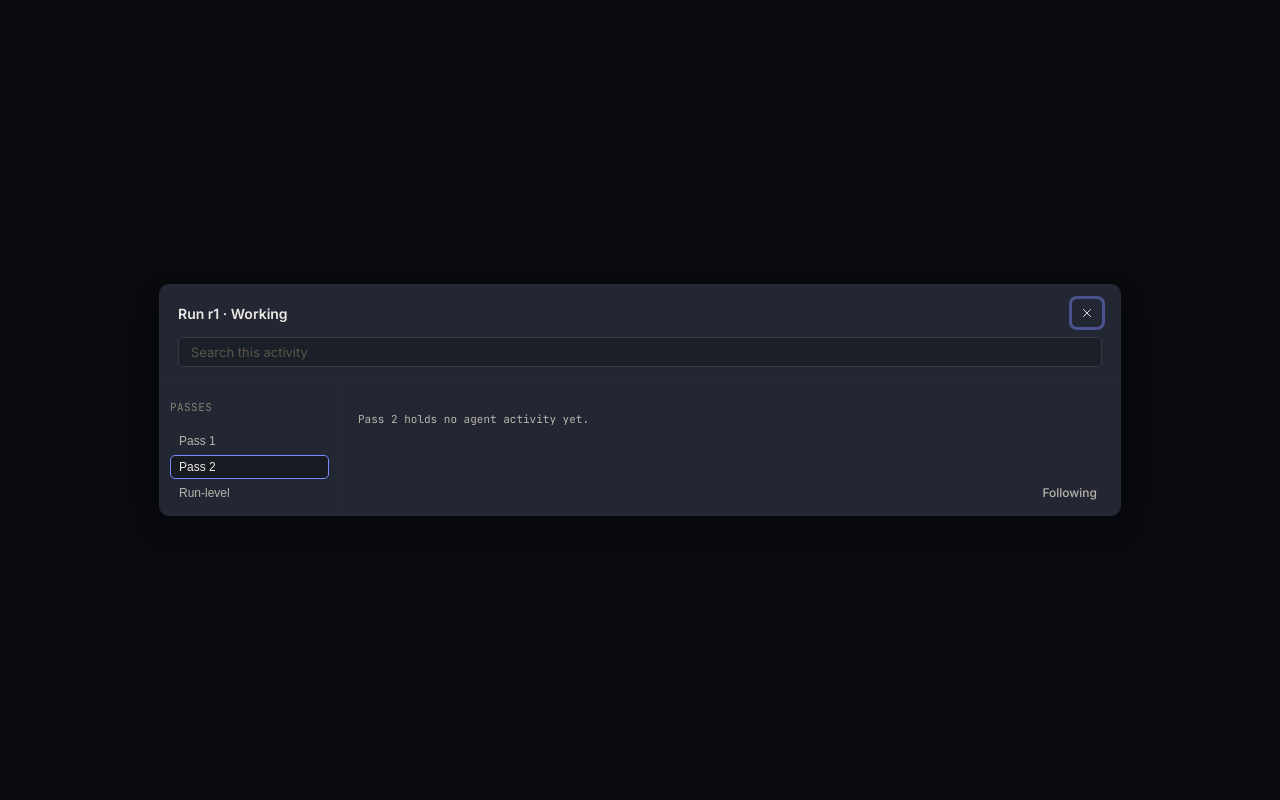
Scenario: the graduation log window: search › GLW-FR-KBZE: a single match reads as one match
The width and height of the screenshot is (1280, 800).
In the search field with test id "glw-search": (640, 352) [178,337,1102,367], type "only"
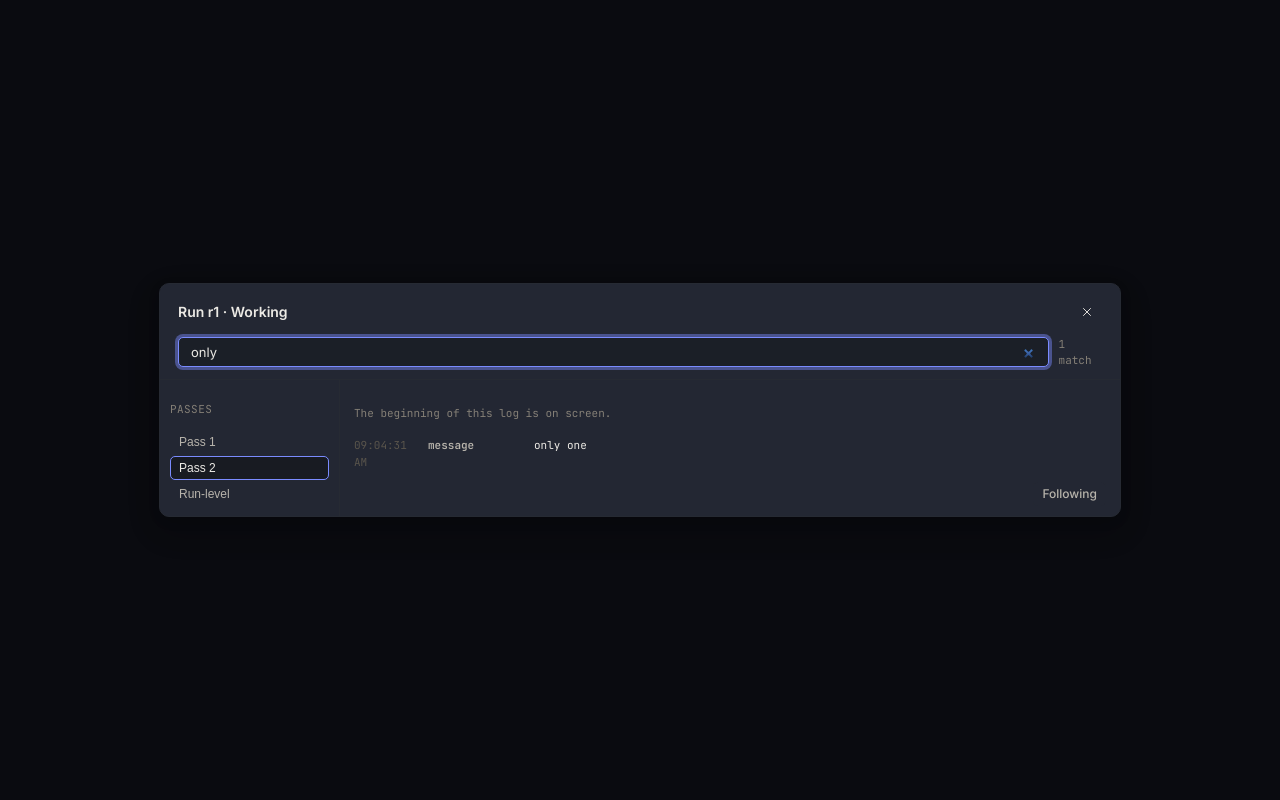
Expected: the message with test id "glw-match-count" reads "1 match", [1058,337,1092,367]
